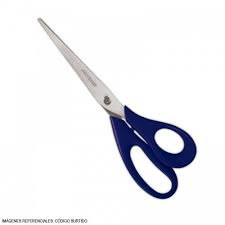tihiras: (36, 15, 198, 201)
